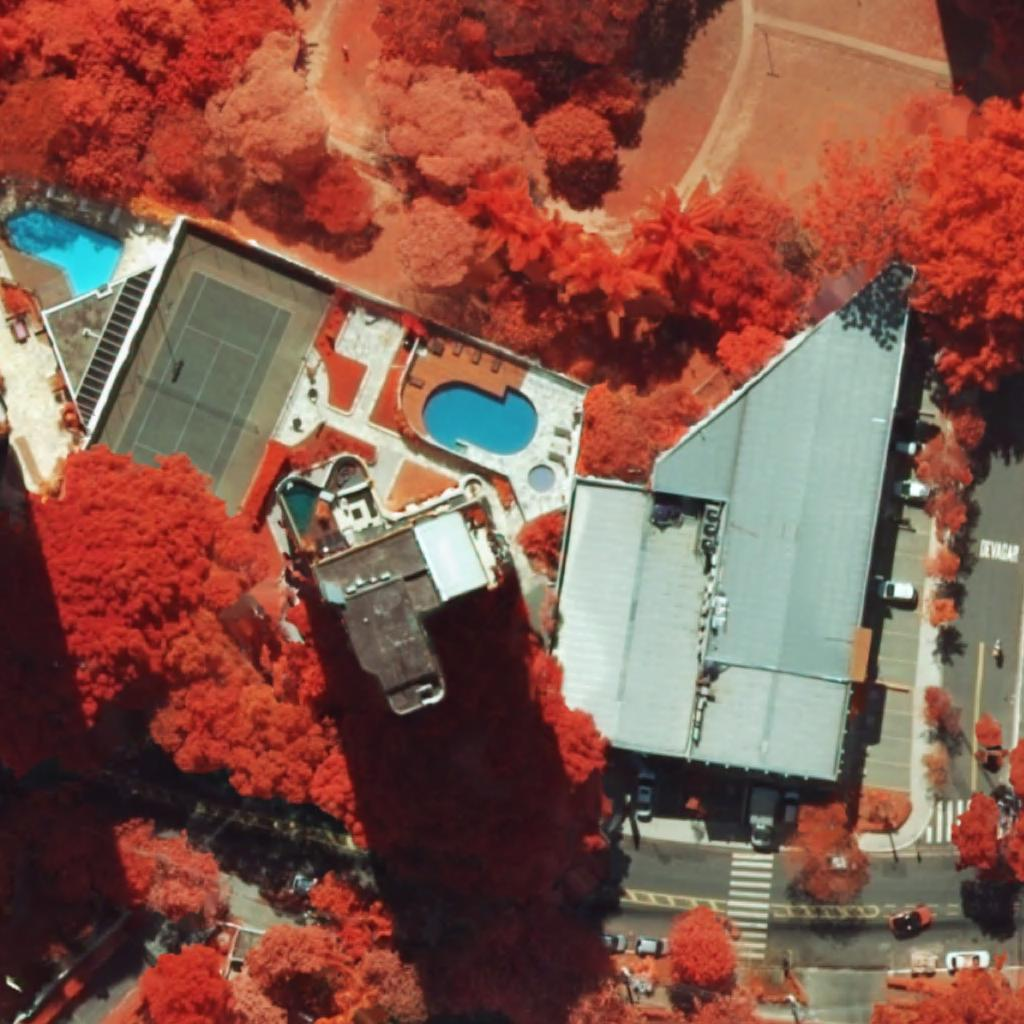pool: (5, 209, 124, 297), (422, 381, 538, 455), (279, 478, 319, 538)
